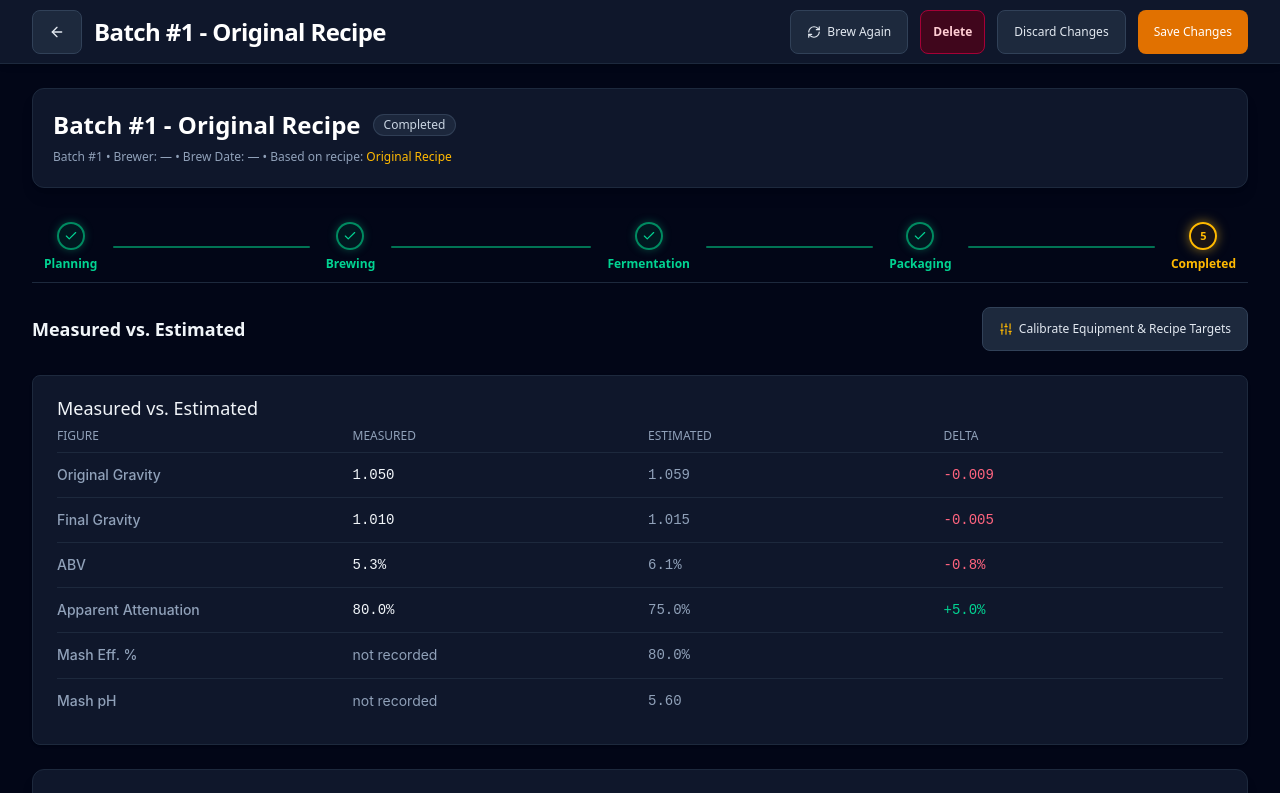
AC-15: Rebrew clones a completed batch into a new Planning batch › a failed Rebrew surfaces an error and does not navigate
Check: the text with test id "batch-status-badge" is shown, box [372,114,456,136]
Click the button with test id "batch-rebrew-btn" at (849, 32), box [790,10,908,54]
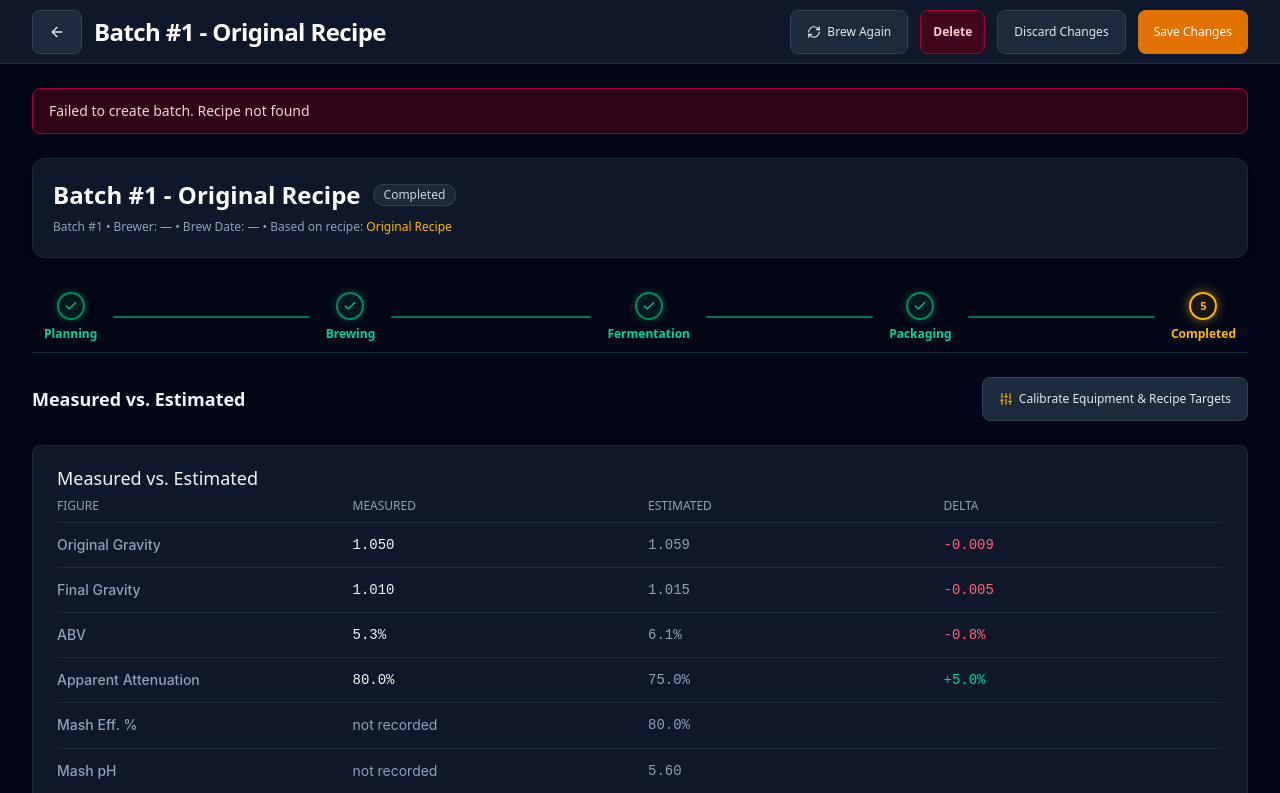
Check: the text "Failed to create batch. Recipe not found" is shown, box [32,88,1248,134]
